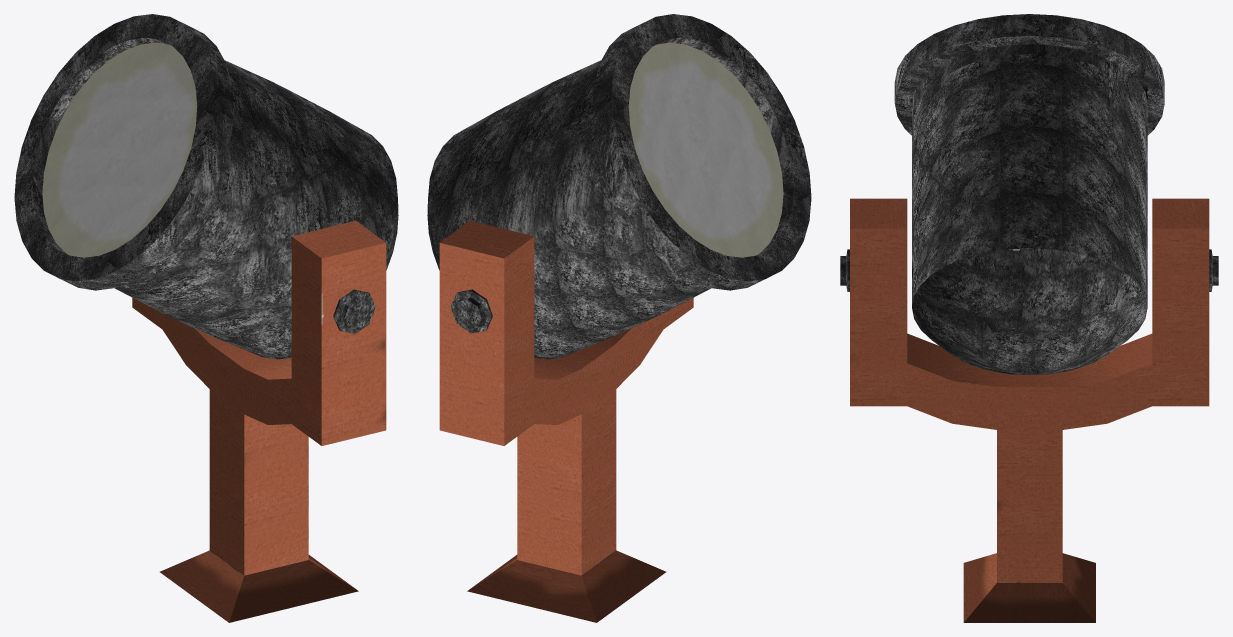
Rendered from spotlight.obj.
3 renders of one model, left to right at view 1: azimuth 30°, elevation 25°; view 2: azimuth 150°, elevation 25°; view 3: azimuth 270°, elevation 25°, orthographic. The views are drawn at different scales.
Visible parts, largest first — view 1: obj1; view 2: obj1; view 3: obj1.
Part boxes in pixels (bbox=[...]): obj1: bbox=[14, 14, 398, 622]; obj1: bbox=[427, 14, 811, 622]; obj1: bbox=[840, 14, 1218, 622].
Size of the model in its own units: 20.18 by 33.27 by 20.94.
Materials: 1 (1 with a texture image).
